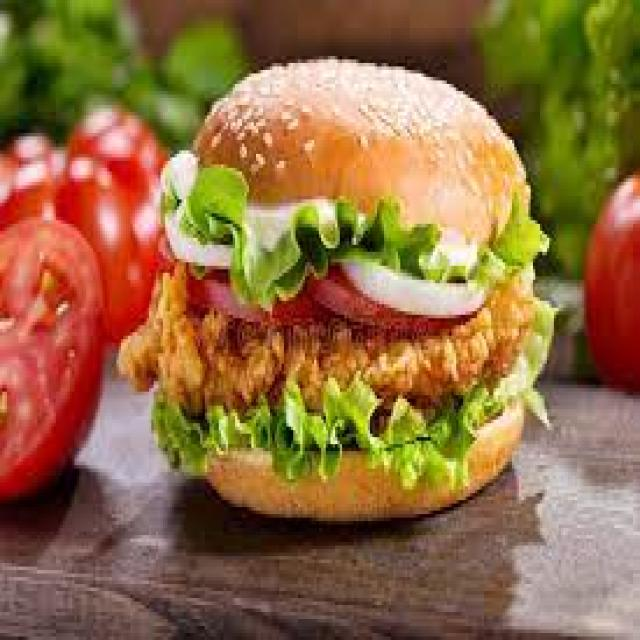햄버거: (172, 59, 529, 567)
